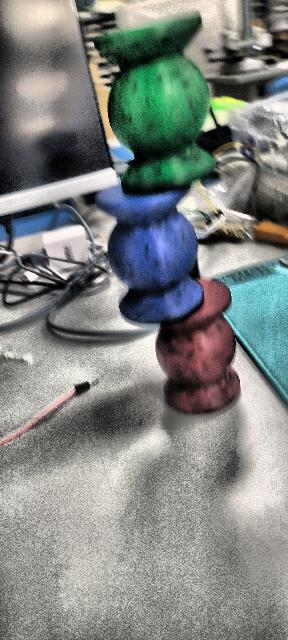blue: (96, 180, 204, 324)
green: (90, 28, 234, 192)
red: (153, 320, 253, 418)
